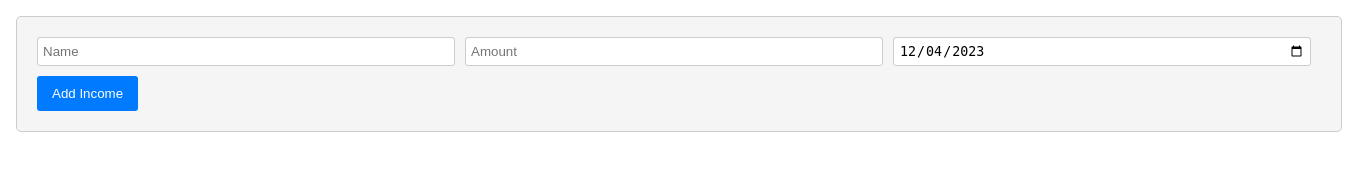
Test case: TransactionForm Component › displays an error message for missing fields
This screenshot has width=1359, height=195.
Step 1. Click the button "Add Income" → (88, 94), box [37,76,138,111]
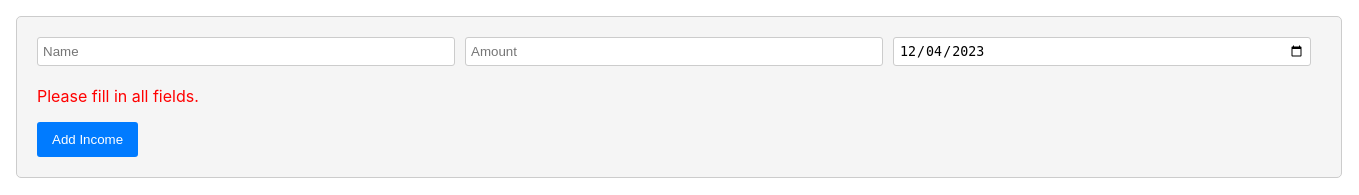
Expected: the text "Please fill in all fields." is shown, [37,86,199,106]
